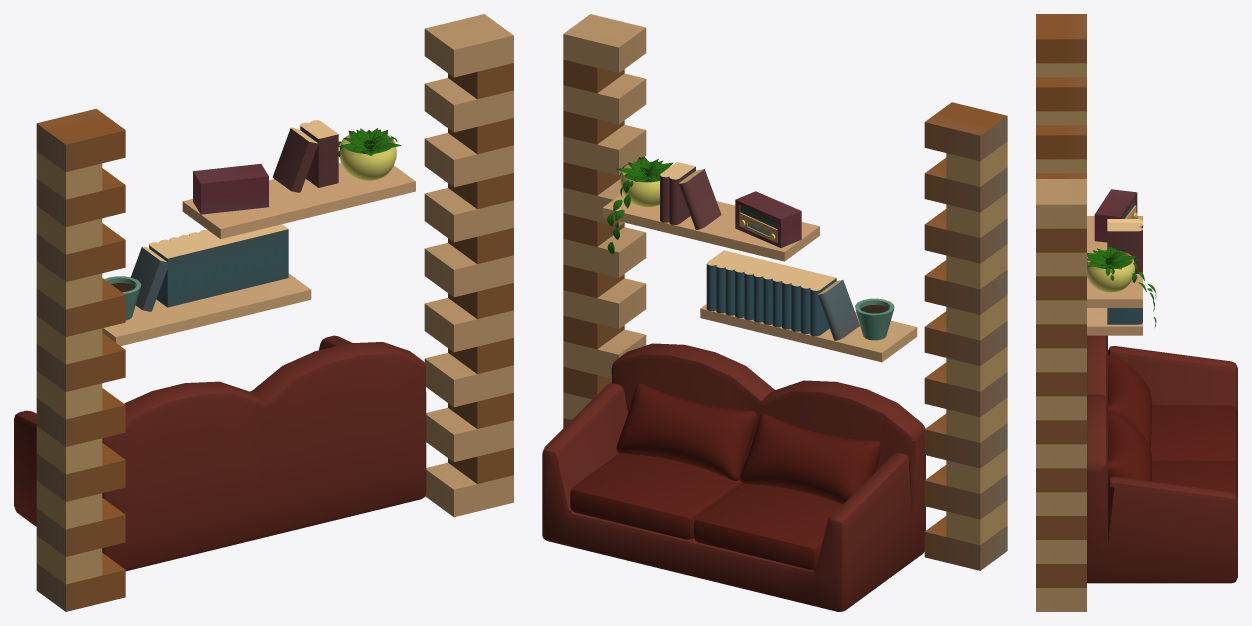
The model's file is Furniture1.fbx.
The picture shows the model from 3 angles, left to right: view 1: azimuth 30°, elevation 25°; view 2: azimuth 150°, elevation 25°; view 3: azimuth 270°, elevation 25°; orthographic projection. The views are drawn at different scales.
Parts seen in each view (by area): view 1: Cube, Cube.007, Cube.005, Cube.006, Cube.008, Cube.009, Cube.004, Cube.003, Cube.010, Plane.012, Cube.015, Cube.014 (+2 smaller); view 2: Cube, Cube.005, Cube.007, Cube.002, Cube.001, Cube.006, Cube.008, Cube.009, Cube.004, Cube.003, Cube.010, Plane.012 (+4 smaller); view 3: Cube, Cube.007, Cube.008, Cube.002, Cube.005, Cube.001, Cube.006, Plane.012, Cube.004, Cube.010, Cube.014, Cube.003 (+1 smaller).
Boxes of the visible parts, <box> form: Cube: <box>14,335,426,571</box>; Cube.007: <box>424,14,513,517</box>; Cube.005: <box>36,108,125,611</box>; Cube.006: <box>36,151,102,584</box>; Cube.008: <box>448,63,513,483</box>; Cube.009: <box>149,224,288,307</box>; Cube.004: <box>182,162,415,239</box>; Cube.003: <box>102,273,311,345</box>; Cube.010: <box>193,164,268,214</box>; Plane.012: <box>338,128,401,181</box>; Cube.015: <box>273,127,318,192</box>; Cube.014: <box>300,120,338,187</box>; Cube: <box>542,343,925,611</box>; Cube.005: <box>924,102,1007,570</box>; Cube.007: <box>563,14,646,419</box>; Cube.002: <box>570,453,842,569</box>; Cube.001: <box>616,383,880,504</box>; Cube.006: <box>946,141,1007,545</box>; Cube.008: <box>563,59,624,427</box>; Cube.009: <box>706,250,836,336</box>; Cube.004: <box>602,193,819,261</box>; Cube.003: <box>700,304,917,362</box>; Cube.010: <box>735,191,801,247</box>; Plane.012: <box>607,156,673,254</box>; Cube: <box>1087,335,1237,583</box>; Cube.007: <box>1036,179,1086,611</box>; Cube.008: <box>1036,228,1086,587</box>; Cube.002: <box>1150,405,1237,497</box>; Cube.005: <box>1036,14,1086,178</box>; Cube.001: <box>1108,355,1151,481</box>; Cube.006: <box>1036,63,1086,173</box>; Plane.012: <box>1087,245,1156,327</box>; Cube.004: <box>1087,216,1142,307</box>; Cube.010: <box>1094,189,1137,242</box>; Cube.014: <box>1107,222,1142,273</box>; Cube.003: <box>1087,308,1142,335</box>.
Bounding box in the file's own units: 275 × 274 × 123.
